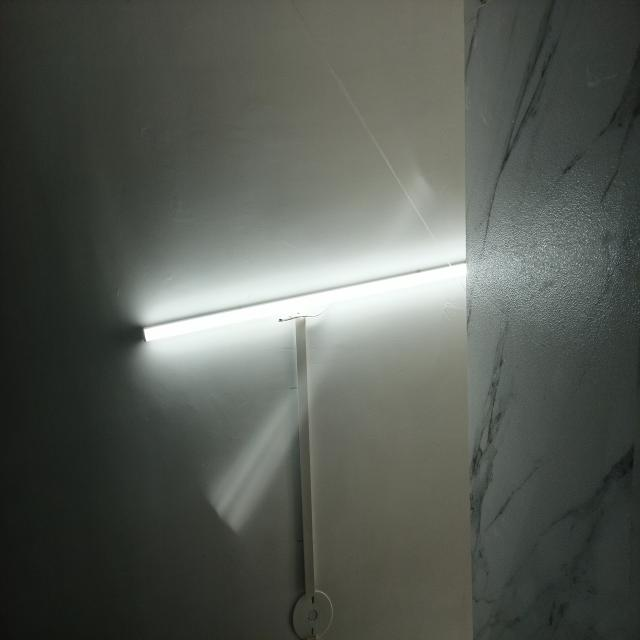light_on: (134, 241, 467, 350)
